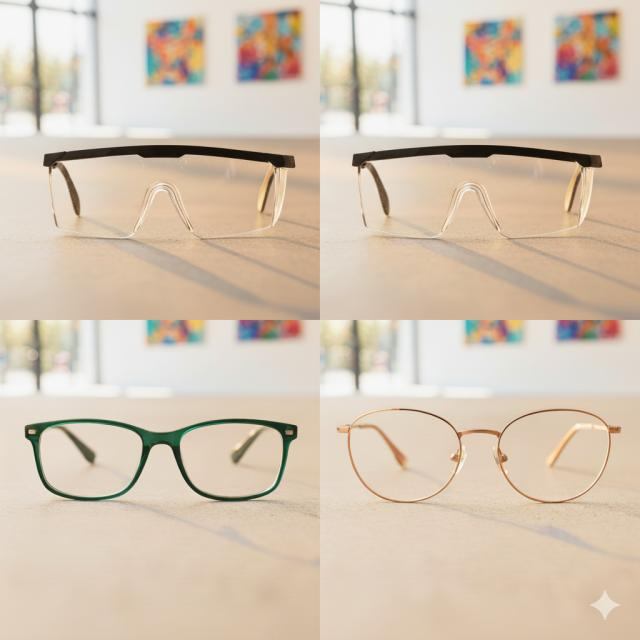oculos-epi: (43, 144, 294, 238), (352, 144, 601, 238)
sem_oculos: (338, 409, 620, 502), (25, 418, 297, 501)
